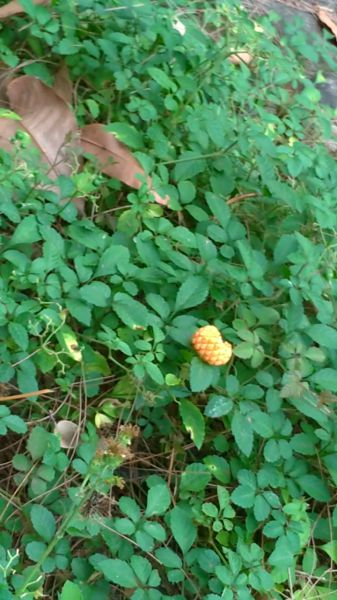eggs: (190, 321, 236, 372)
